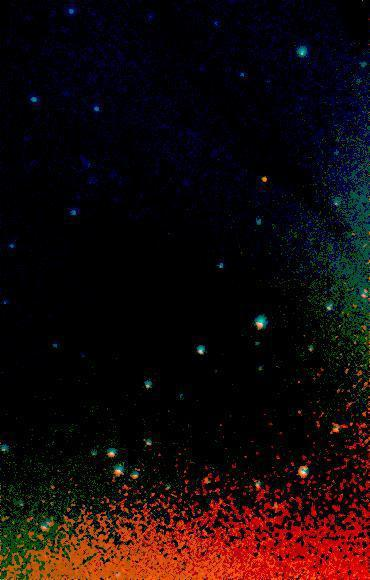star: (249, 165, 279, 195)
